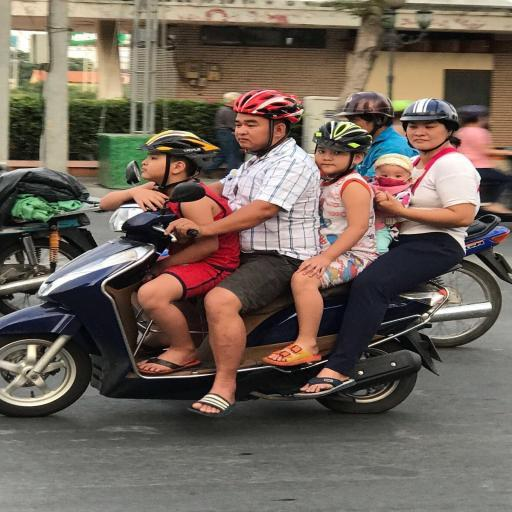no helmet: (205, 70, 308, 188)
triple riding: (0, 46, 475, 452)
